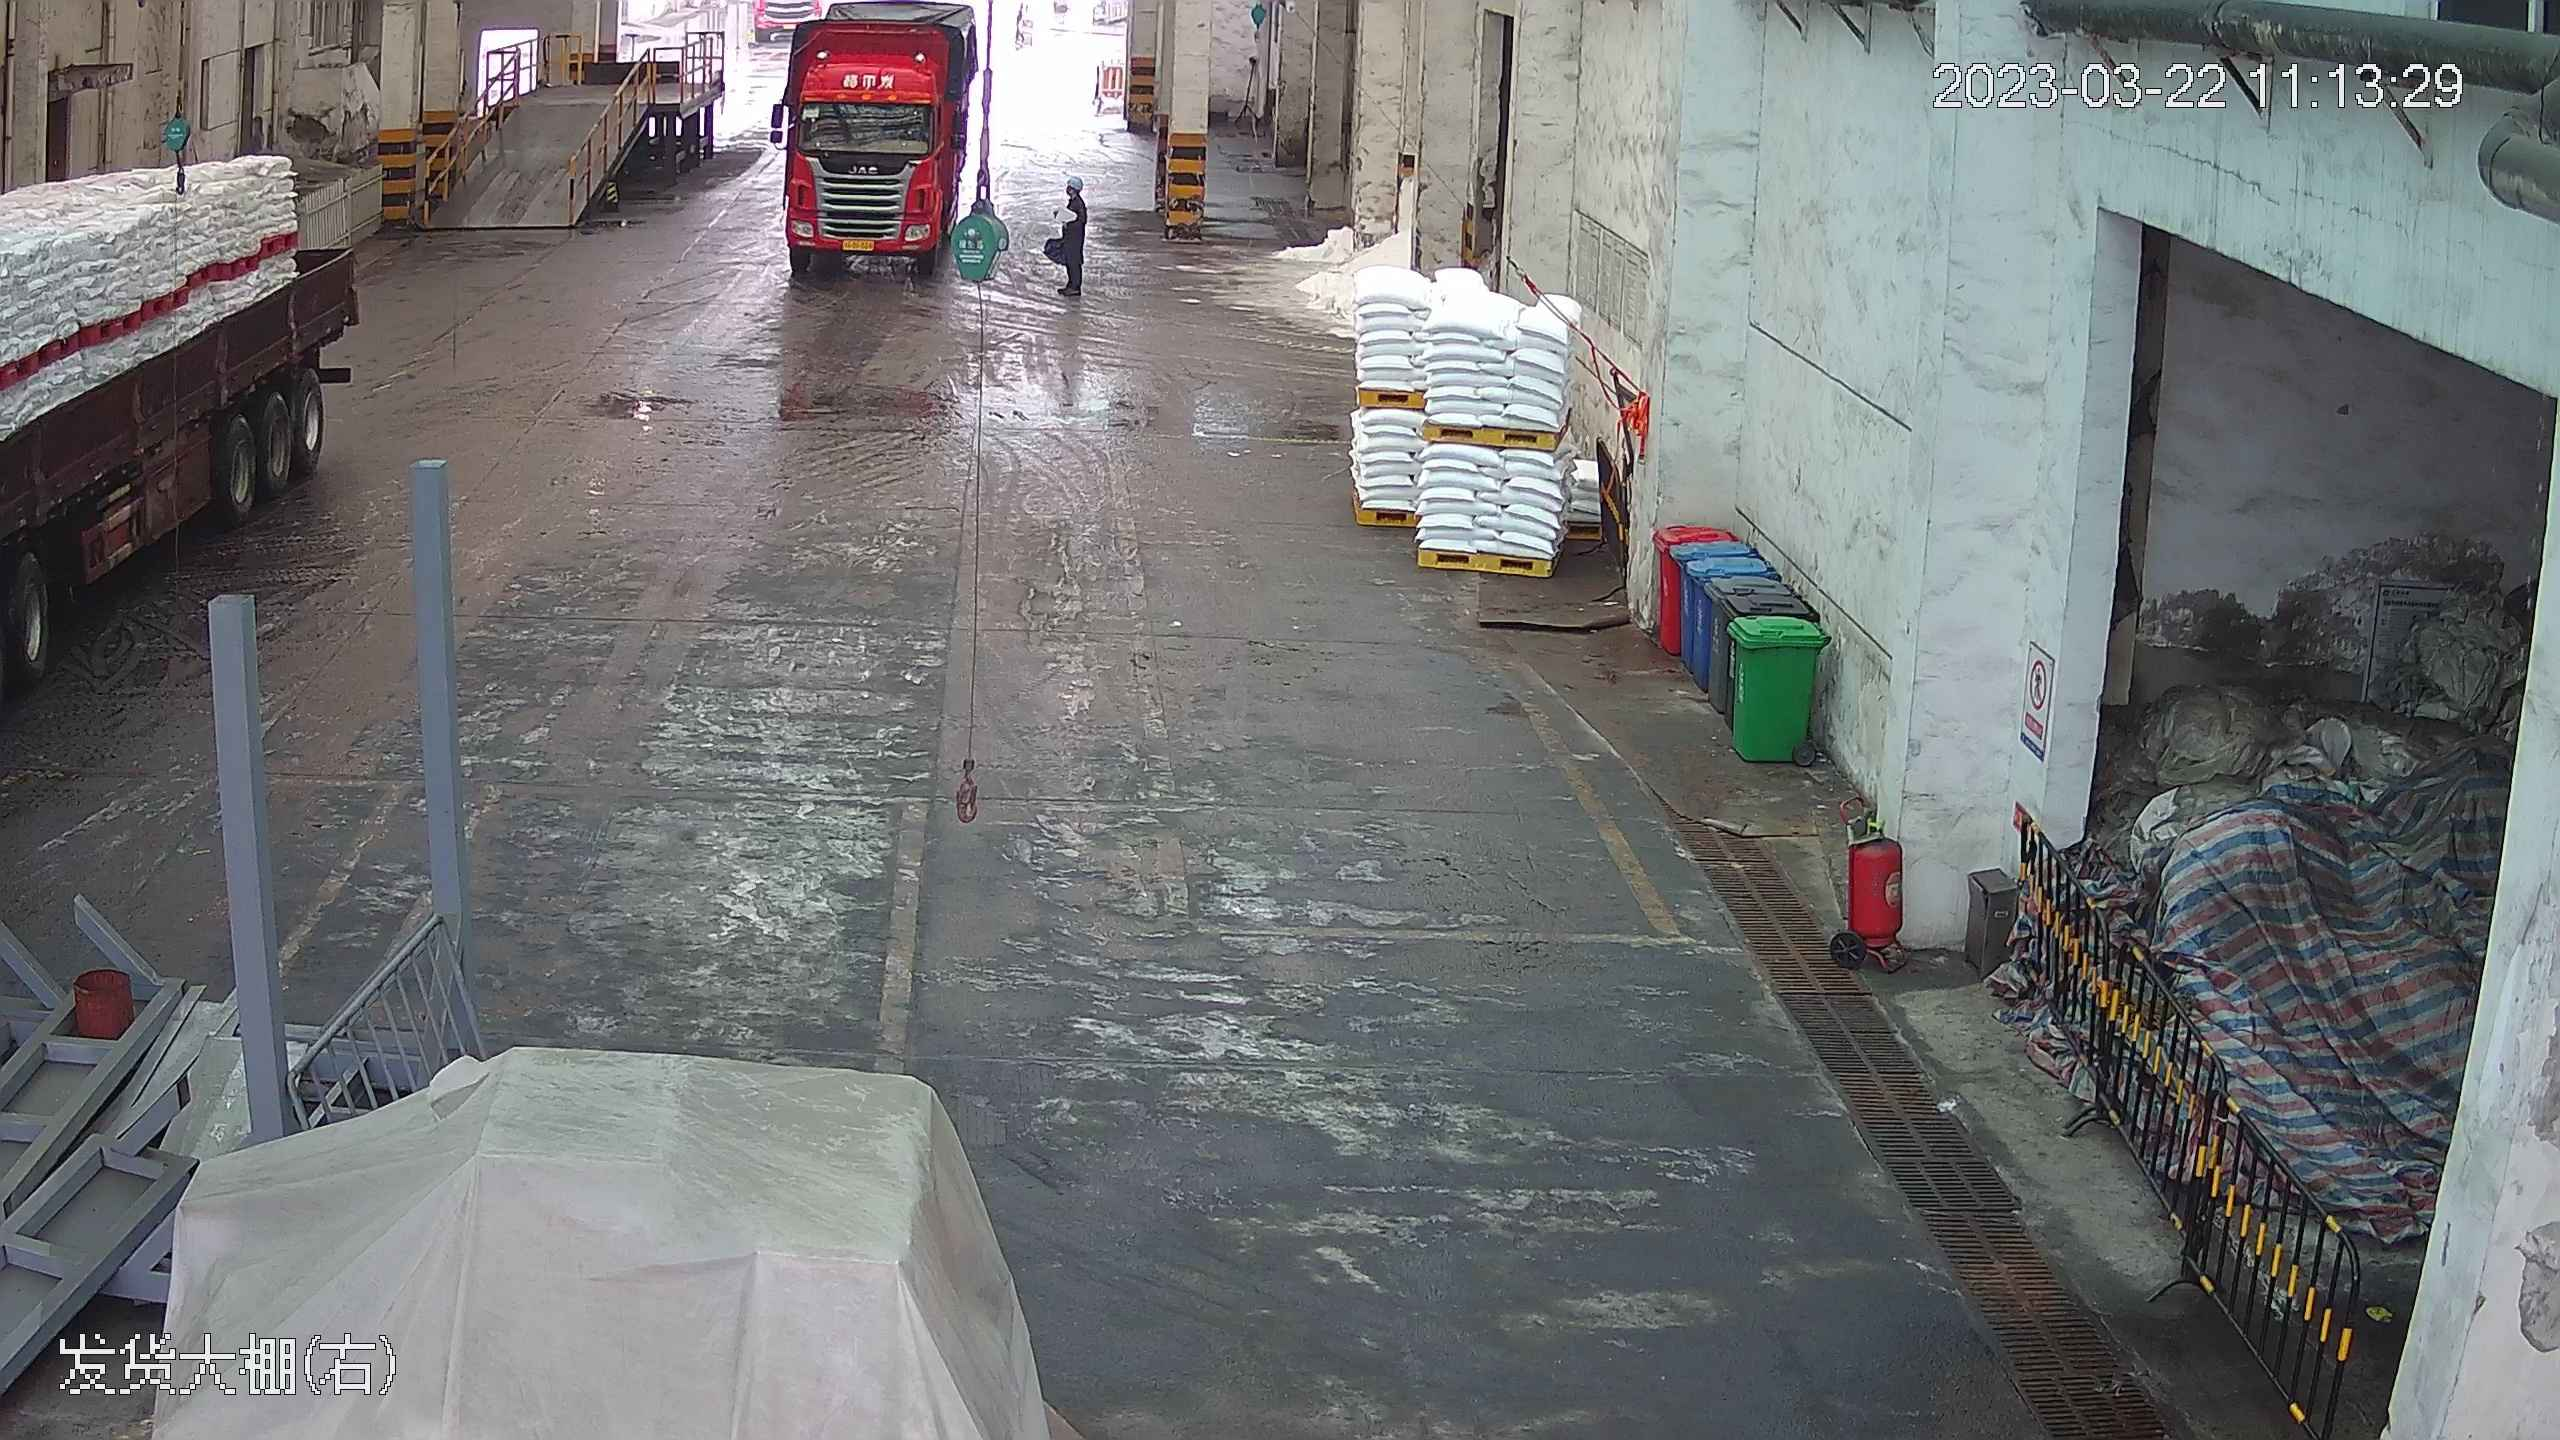head: (1062, 175, 1087, 221)
helmet: (1065, 176, 1084, 192)
people: (1050, 169, 1087, 295)
truck: (2, 123, 318, 771), (765, 7, 993, 278)
